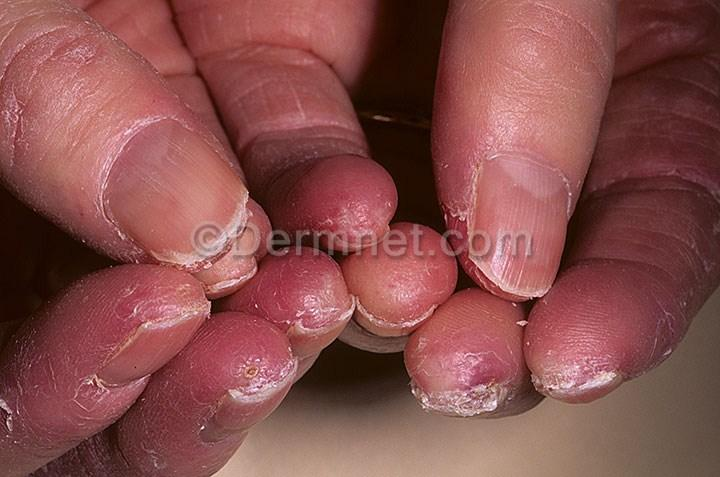Eczema: (0, 17, 122, 174), (2, 322, 125, 440), (62, 254, 232, 331), (426, 334, 549, 404), (200, 315, 294, 390), (442, 162, 503, 249), (307, 182, 389, 230), (560, 340, 641, 376), (290, 278, 345, 322)
